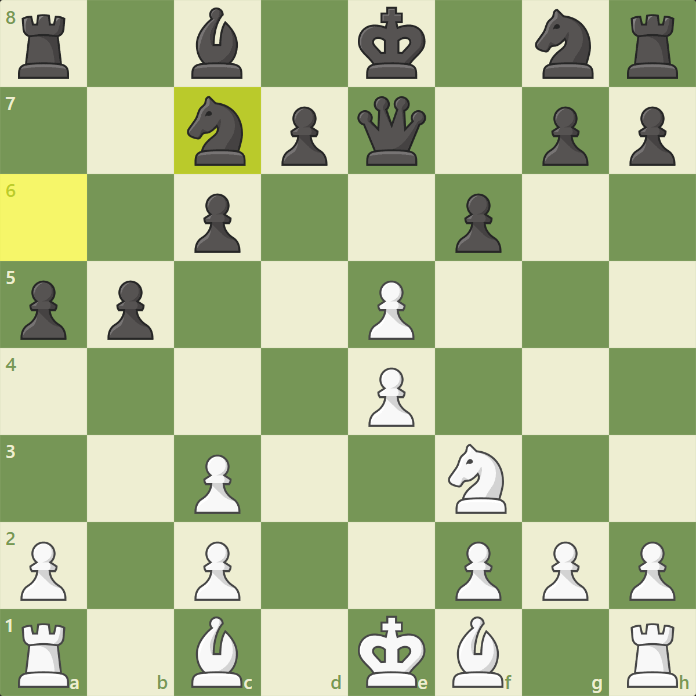B: (449, 613, 506, 691), (190, 614, 246, 692)
K: (356, 614, 429, 693)
N: (446, 442, 510, 518)
P: (17, 538, 69, 605), (192, 537, 244, 604), (190, 450, 242, 517), (366, 363, 418, 430), (365, 276, 417, 343), (452, 537, 504, 604), (539, 537, 591, 604), (627, 537, 679, 604)
R: (16, 620, 73, 691), (625, 620, 680, 690)
b: (188, 5, 246, 83)
k: (355, 5, 429, 82)
n: (534, 7, 596, 82)
p: (12, 276, 69, 344), (101, 275, 158, 343), (188, 189, 245, 257), (274, 102, 331, 170), (450, 189, 507, 257), (536, 101, 593, 169), (623, 103, 680, 171)
q: (355, 94, 431, 169)
r: (12, 11, 74, 83), (624, 11, 683, 83)
